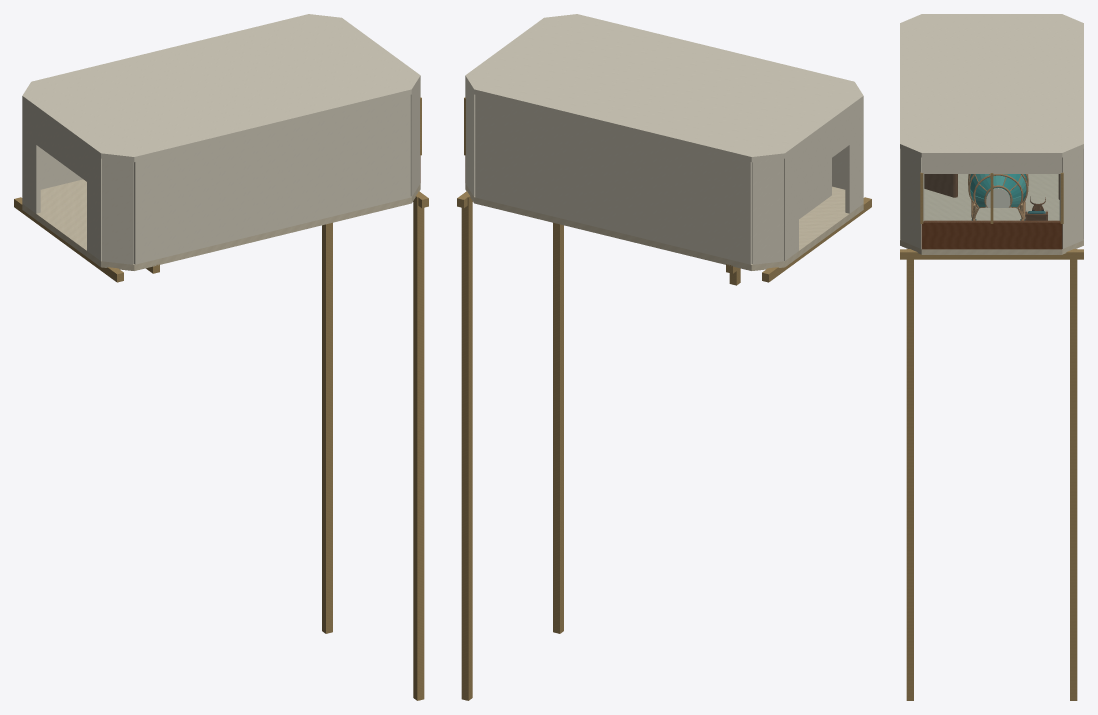
Rendered from D04_STARBOARD_AFT_HOME_939_r001.glb.
The picture shows the model from 3 angles, left to right: view 1: azimuth 30°, elevation 25°; view 2: azimuth 150°, elevation 25°; view 3: azimuth 270°, elevation 25°; orthographic projection. The views are drawn at different scales.
Parts seen in each view (by area): view 1: SA939_D04H928_Roof, SA939_D04H928_Shell_7, SA939_D04H928_Pier_1, SA939_D04H928_Floor, SA939_D04H928_Pier_2, SA939_D04H928_Shell_6, SA939_D04H928_EntryWall_1, SA939_D04H928_EntryHeader, SA939_D04H928_EntryWall_0, SA939_D04H928_Shell_0, SA939_D04H928_Shell_3, SA939_D04H928_Long_-46.349999999999994; view 2: SA939_D04H928_Roof, SA939_D04H928_Shell_3, SA939_D04H928_Pier_2, SA939_D04H928_Pier_1, SA939_D04H928_Floor, SA939_D04H928_Shell_4, SA939_D04H928_EntryWall_0, SA939_D04H928_EntryHeader, SA939_D04H928_EntryWall_1, SA939_D04H928_BathDogleg, SA939_D04H928_Shell_2, SA939_D04H928_Long_-46.349999999999994; view 3: SA939_D04H928_Roof, SA939_D04H928_GardenGlass, SA939_D04H928_Floor, SA939_D04H928_GardenDado, SA939_D04H928_Pier_1, SA939_D04H928_Pier_2, SA939_D04H928_GardenHead, SA939_D04H928_Shell_0, SA939_D04H928_Shell_2, SA939_D04H928_Long_-58.650000000000006, SA939_D04H928_QuietWing, SA939_ReservedCocoon__Rear ivory acoustic diffuser.
Part boxes in pixels (bbox=[...]): SA939_D04H928_Roof: bbox=[22, 14, 420, 162]; SA939_D04H928_Shell_7: bbox=[134, 95, 410, 264]; SA939_D04H928_Pier_1: bbox=[413, 193, 424, 700]; SA939_D04H928_Floor: bbox=[22, 179, 420, 270]; SA939_D04H928_Pier_2: bbox=[322, 222, 332, 633]; SA939_D04H928_Shell_6: bbox=[102, 158, 133, 264]; SA939_D04H928_EntryWall_1: bbox=[22, 101, 40, 213]; SA939_D04H928_EntryHeader: bbox=[36, 111, 86, 181]; SA939_D04H928_EntryWall_0: bbox=[87, 148, 101, 260]; SA939_D04H928_Shell_0: bbox=[410, 81, 420, 196]; SA939_D04H928_Shell_3: bbox=[40, 148, 82, 189]; SA939_D04H928_Long_-46.349999999999994: bbox=[14, 197, 123, 282]; SA939_D04H928_Roof: bbox=[465, 14, 863, 162]; SA939_D04H928_Shell_3: bbox=[475, 95, 751, 264]; SA939_D04H928_Pier_2: bbox=[461, 193, 472, 700]; SA939_D04H928_Pier_1: bbox=[553, 222, 563, 633]; SA939_D04H928_Floor: bbox=[465, 183, 863, 270]; SA939_D04H928_Shell_4: bbox=[752, 158, 783, 264]; SA939_D04H928_EntryWall_0: bbox=[845, 101, 863, 213]; SA939_D04H928_EntryHeader: bbox=[799, 111, 849, 181]; SA939_D04H928_EntryWall_1: bbox=[784, 148, 798, 260]; SA939_D04H928_BathDogleg: bbox=[799, 158, 831, 218]; SA939_D04H928_Shell_2: bbox=[465, 81, 475, 196]; SA939_D04H928_Long_-46.349999999999994: bbox=[762, 197, 871, 282]; SA939_D04H928_Roof: bbox=[900, 14, 1083, 157]; SA939_D04H928_GardenGlass: bbox=[924, 174, 1059, 221]; SA939_D04H928_Floor: bbox=[900, 174, 1083, 254]; SA939_D04H928_GardenDado: bbox=[921, 220, 1062, 249]; SA939_D04H928_Pier_1: bbox=[906, 249, 913, 700]; SA939_D04H928_Pier_2: bbox=[1070, 249, 1077, 700]; SA939_D04H928_GardenHead: bbox=[921, 157, 1062, 173]; SA939_D04H928_Shell_0: bbox=[900, 149, 924, 248]; SA939_D04H928_Shell_2: bbox=[1059, 149, 1083, 248]; SA939_D04H928_Long_-58.650000000000006: bbox=[900, 249, 1083, 259]; SA939_D04H928_QuietWing: bbox=[924, 174, 957, 197]; SA939_ReservedCocoon__Rear ivory acoustic diffuser: bbox=[986, 188, 1010, 207].
Bounding box in the file's own units: 12.92 × 23.78 × 7.2.
Materials: 36 (21 with a texture image).
